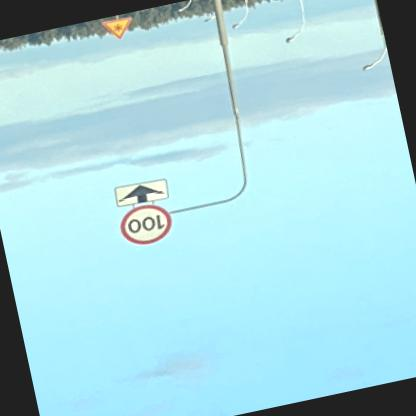speedlimit: (118, 200, 178, 250)
